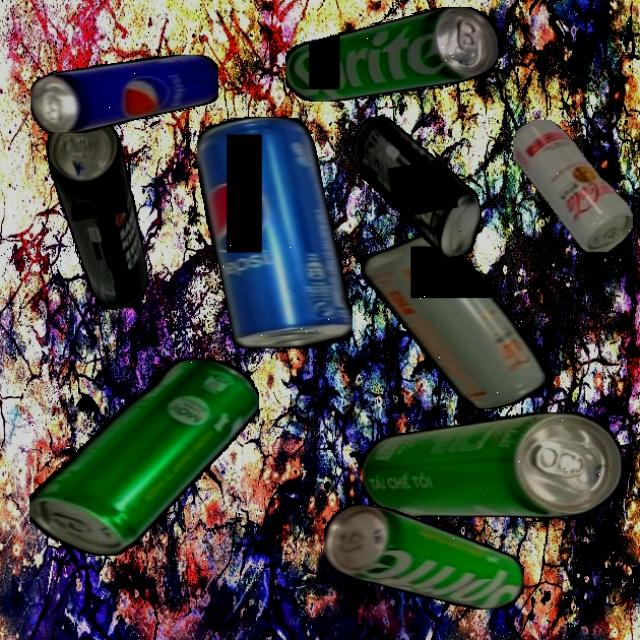debris: (28, 358, 259, 556), (197, 116, 353, 348), (360, 234, 546, 409), (362, 413, 622, 518), (348, 102, 488, 270), (42, 107, 152, 316), (324, 504, 524, 609), (284, 7, 498, 102), (513, 119, 633, 252), (30, 54, 218, 133)
